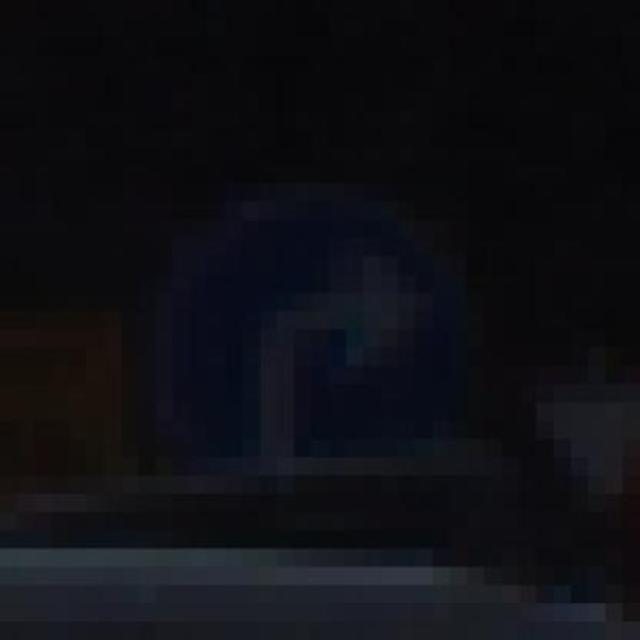Turn right ahead: (121, 183, 519, 531)
